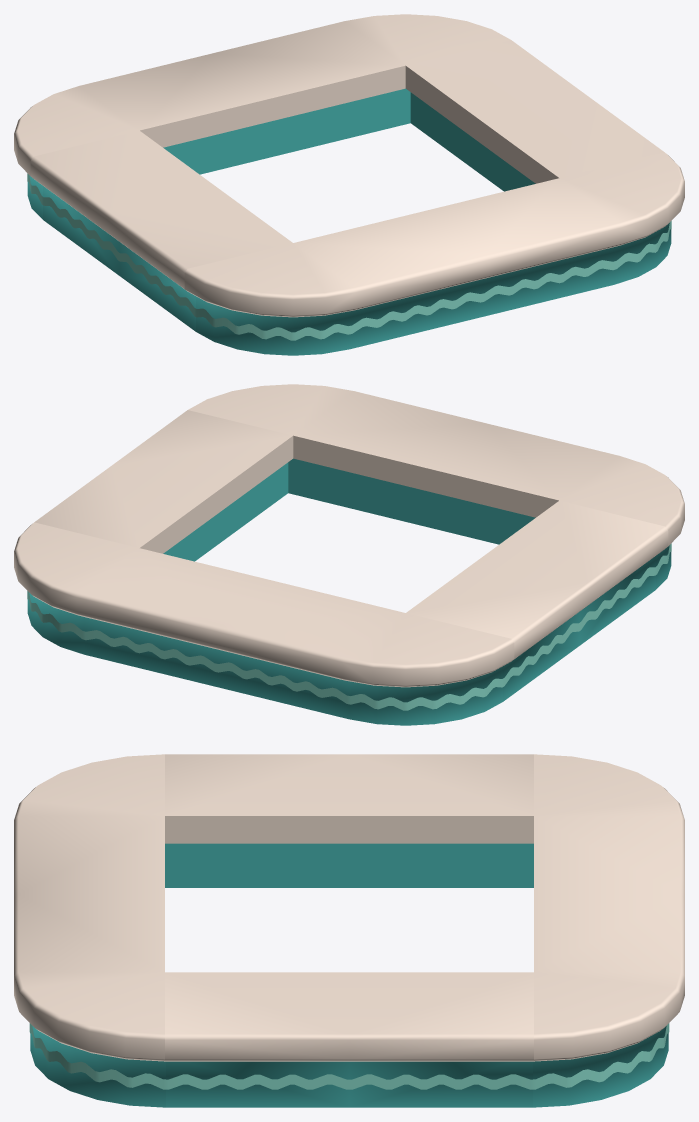
File: Demo_Decor_Banbar_B.fbx
The picture shows the model from 3 angles, top to bottom: view 1: azimuth 30°, elevation 25°; view 2: azimuth 150°, elevation 25°; view 3: azimuth 270°, elevation 25°; orthographic projection. The views are drawn at different scales.
Visible parts, largest first — view 1: Demo_Decor_Banbar_B; view 2: Demo_Decor_Banbar_B; view 3: Demo_Decor_Banbar_B.
Part boxes in pixels (left/top/right/bottom): Demo_Decor_Banbar_B: left=14, top=14, right=684, bottom=355; Demo_Decor_Banbar_B: left=14, top=384, right=684, bottom=725; Demo_Decor_Banbar_B: left=14, top=754, right=684, bottom=1107.
Bounding box in the file's own units: 579 × 74.84 × 579.
